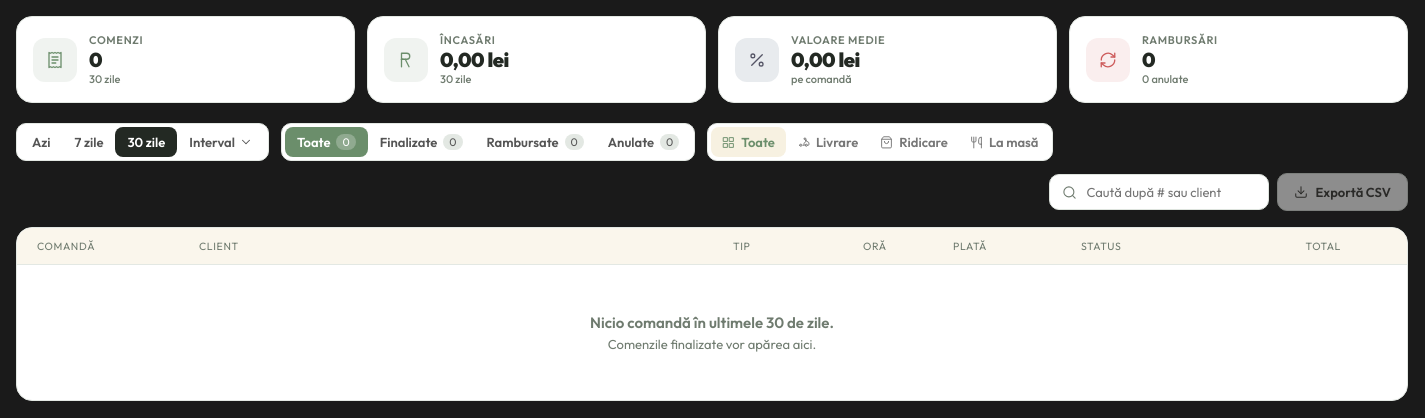
Test case: D-12/D-13 — period-dependent copy (tile sub-labels + empty state) › empty state, settled today (ro): main line reads "Nicio comandă azi." with h_empty_sub on its own line
Step 1. Click the button with test id "history-period-pill" showing "Azi" → (41, 142), box x1=20 y1=127 x2=63 y2=157
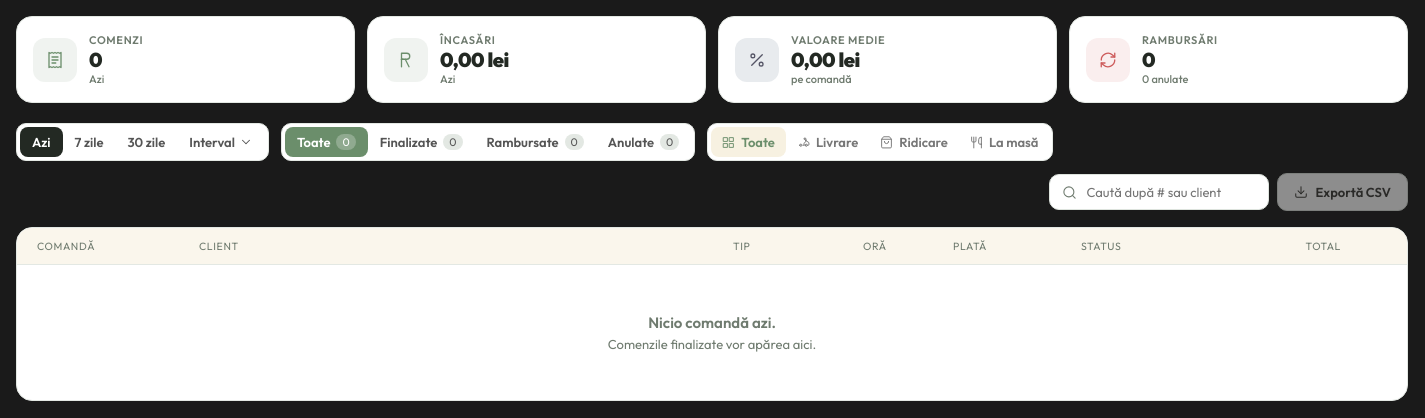
Expected: the text "Comenzile finalizate vor apărea aici." is shown, x1=608 y1=336 x2=816 y2=352
Now the text "Nicio comandă azi." is shown, box x1=648 y1=313 x2=776 y2=332
